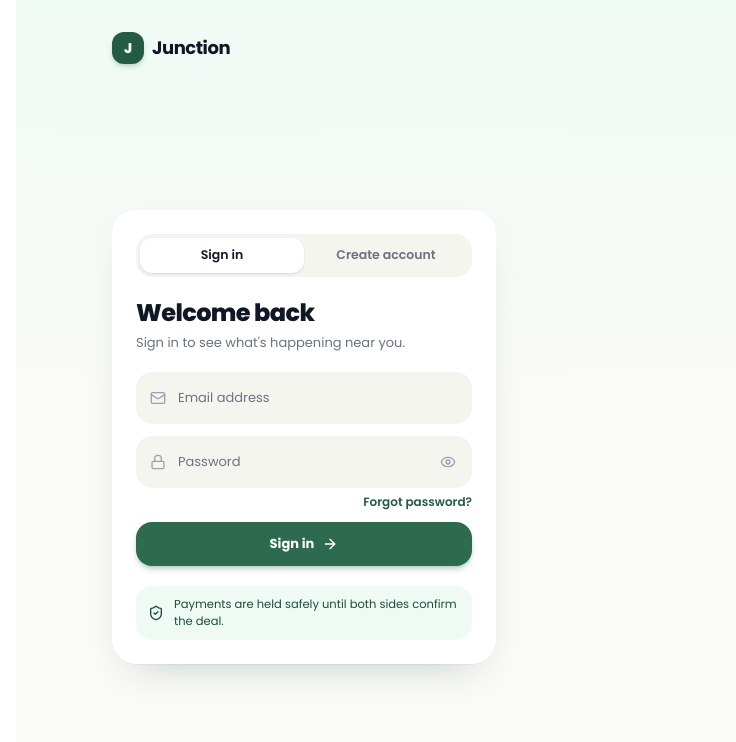
it: LoginPage › shows the API's error message on failed login
Type "wrong@example.com" into the field labelled "Email address" at (304, 398), box x1=136 y1=372 x2=472 y2=424
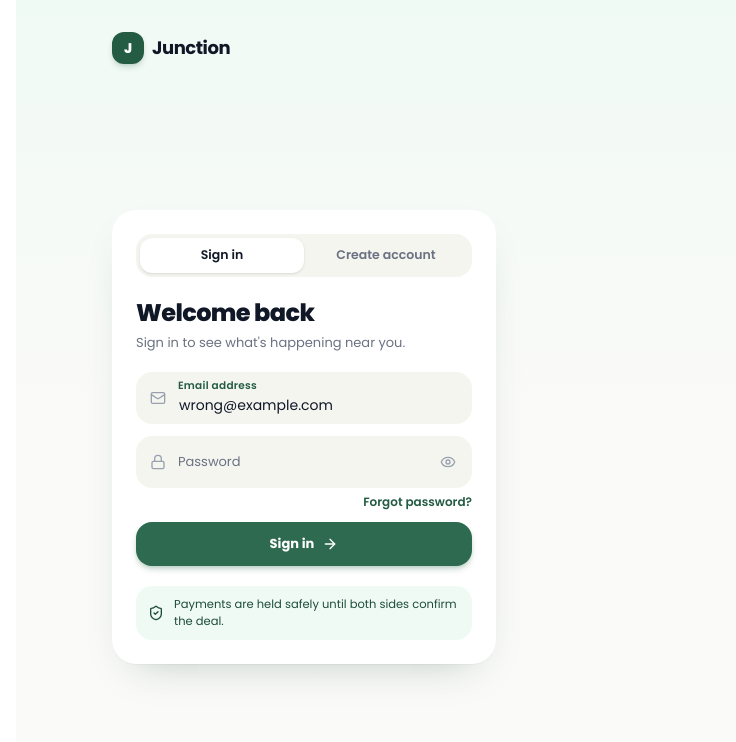
Type "wrongpass" into the password field labelled "Password" at (304, 462), box x1=136 y1=436 x2=472 y2=488
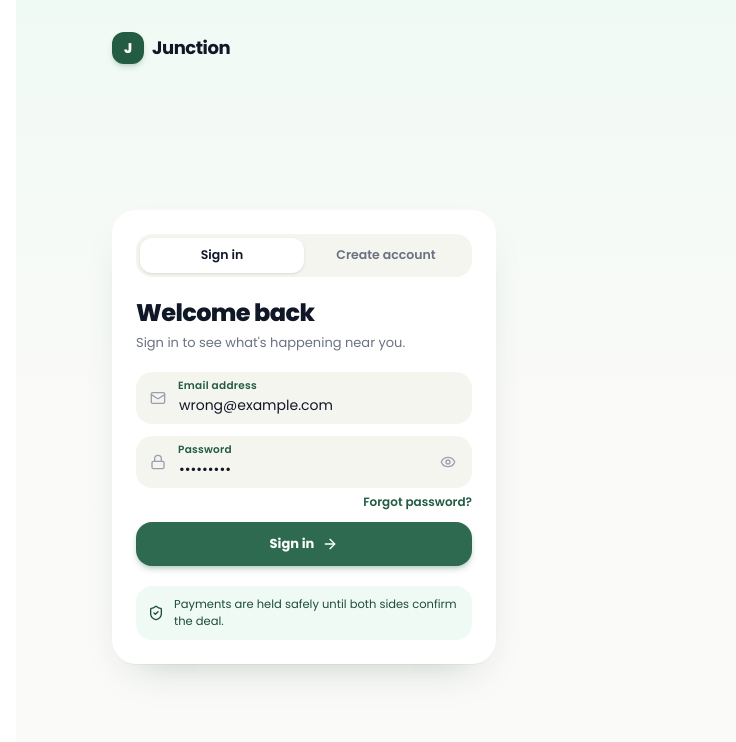
Click the button "Sign in" at (304, 544), box x1=136 y1=522 x2=472 y2=566
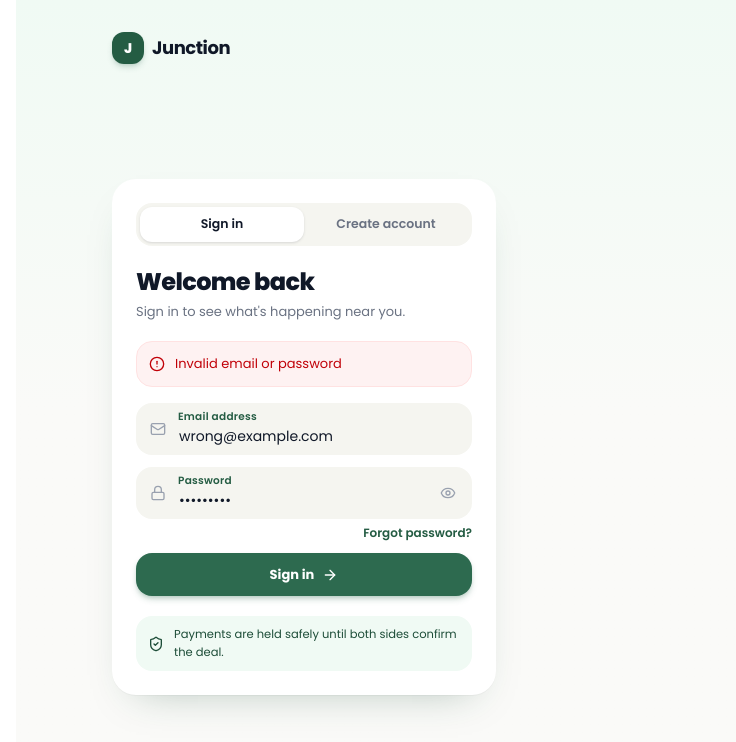
Result: the message reads "Invalid email or password" at x1=175 y1=354 x2=342 y2=373
